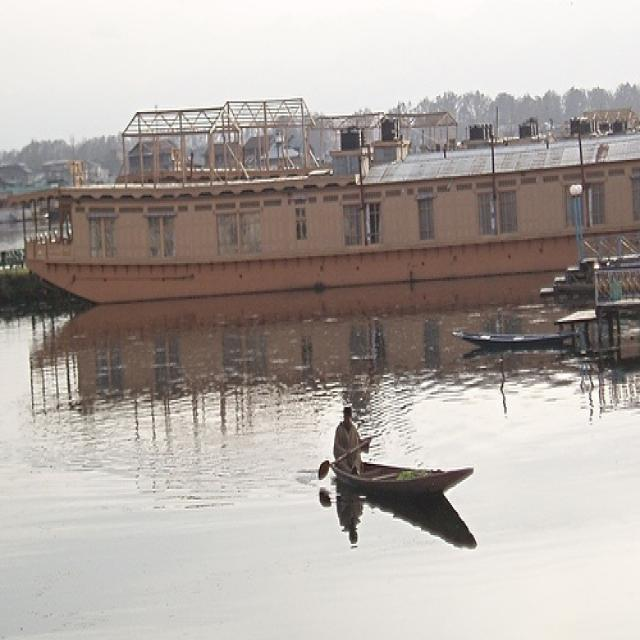boat: (21, 115, 640, 302), (315, 444, 479, 507), (450, 324, 582, 352)
